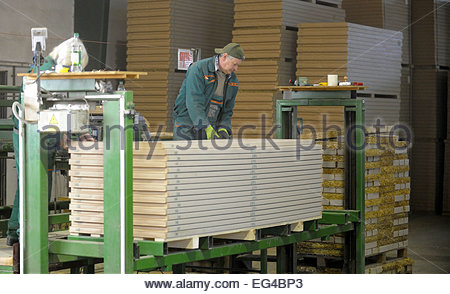noepi: (174, 39, 247, 142)
